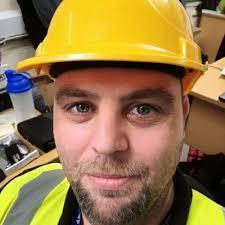helmet: (16, 0, 208, 95)
